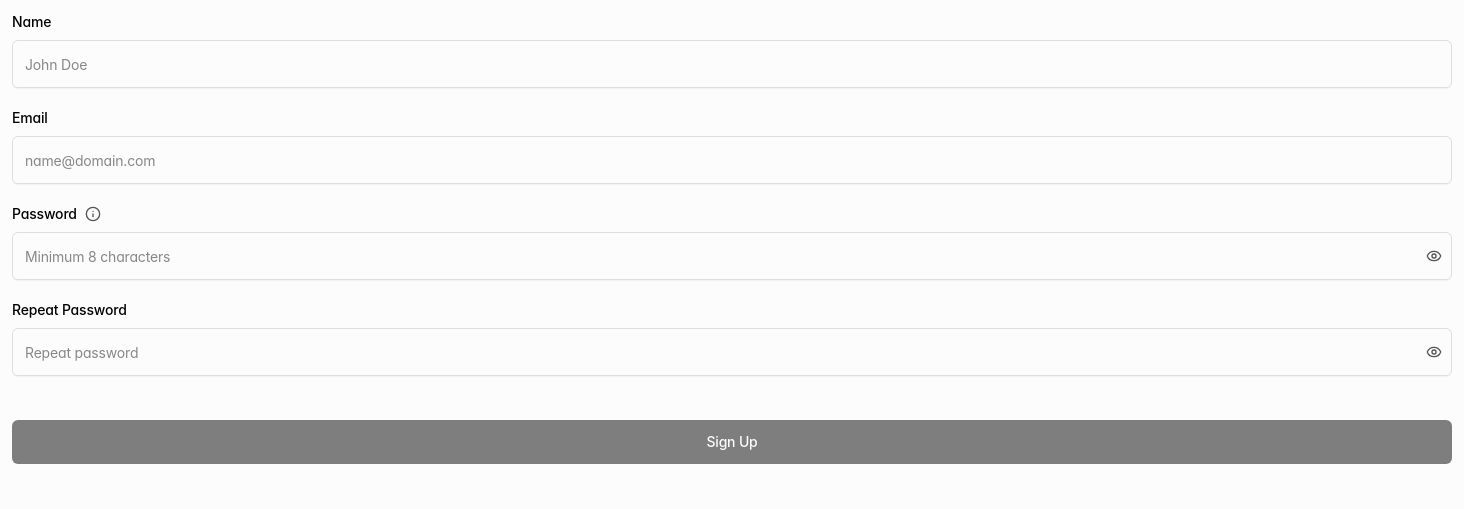
RegisterForm › should show validation error for short password
The width and height of the screenshot is (1464, 509).
Type "short" into the password field with placeholder "Minimum 8 characters" at coordinates (732, 256), box x1=12 y1=232 x2=1452 y2=280
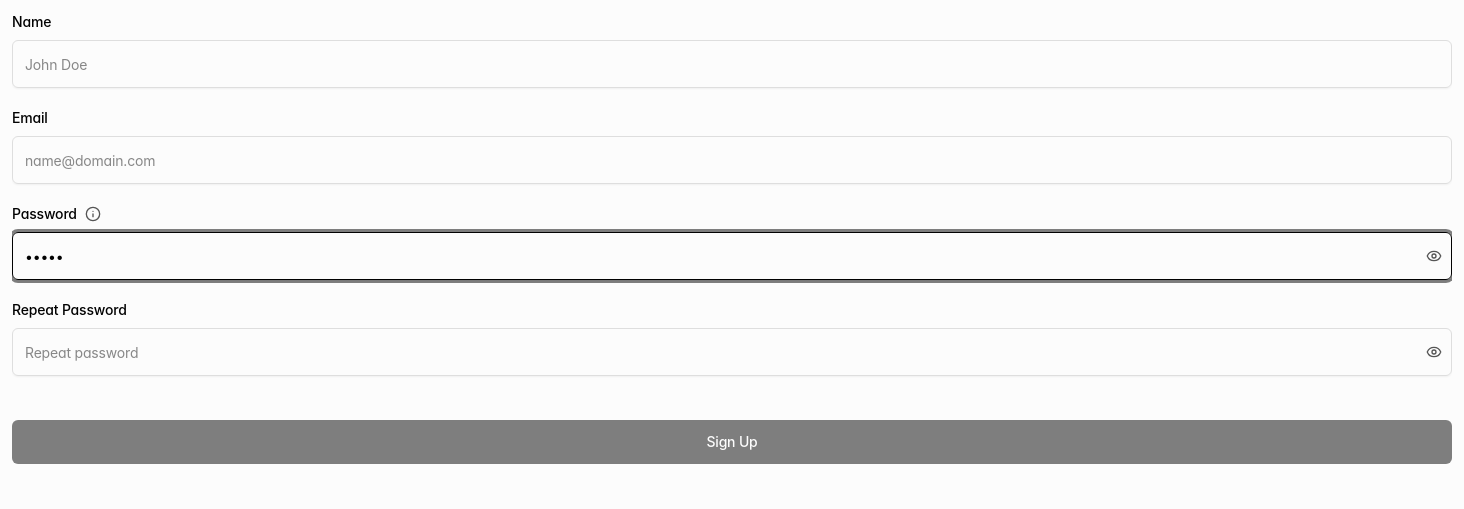
Press Tab
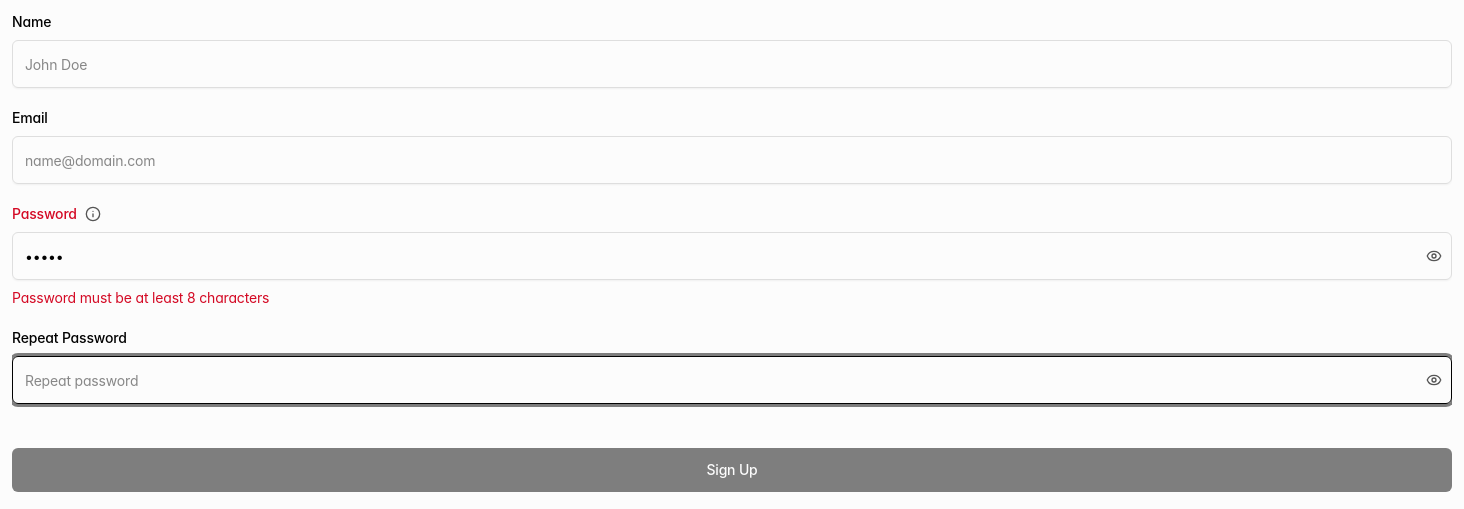
Now the text "Password must be at least 8 characters" is shown, box x1=12 y1=289 x2=269 y2=306
